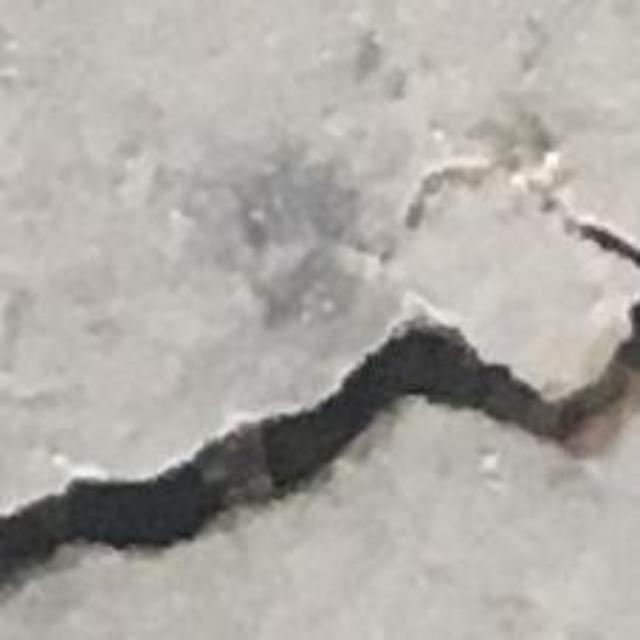crack: (0, 305, 639, 586)
